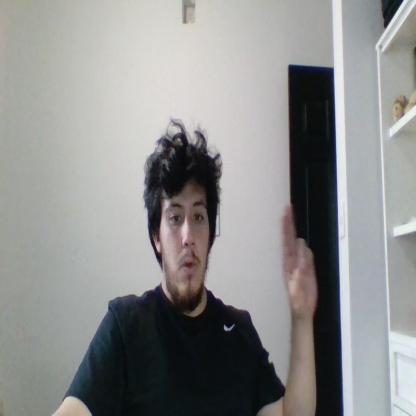U: (282, 201, 318, 317)
